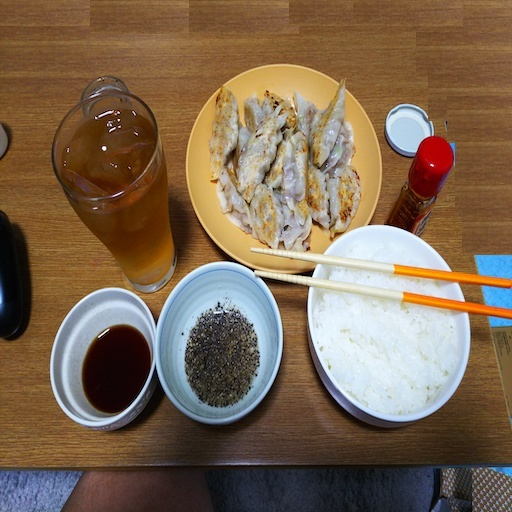drink: (50, 91, 178, 297)
other: (212, 78, 362, 251), (310, 248, 463, 414), (183, 301, 260, 409), (388, 135, 460, 241), (78, 321, 152, 416)
